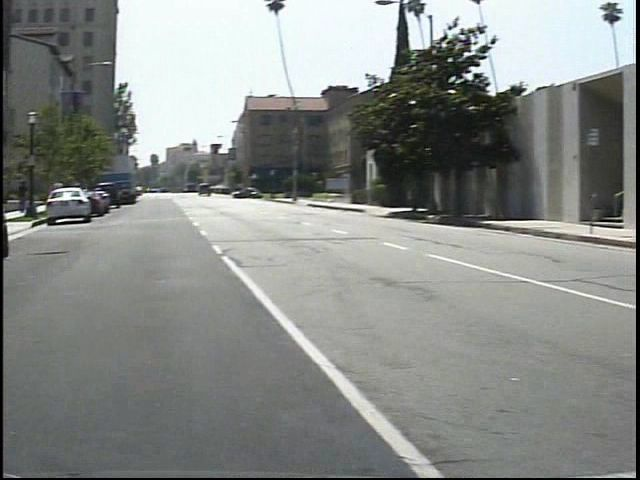person: (15, 175, 33, 221)
